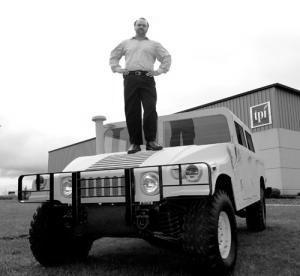car: (15, 111, 271, 272)
